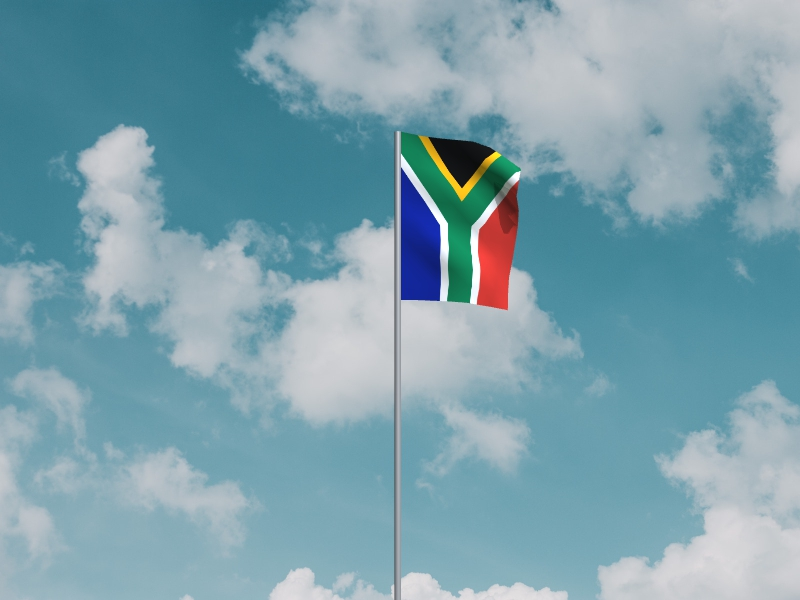za: (401, 133, 522, 312)
